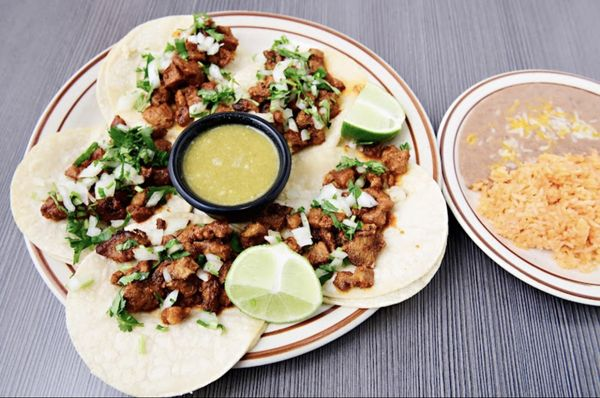sushi: (437, 68, 600, 308), (168, 112, 292, 217)
taco: (224, 241, 324, 325)
